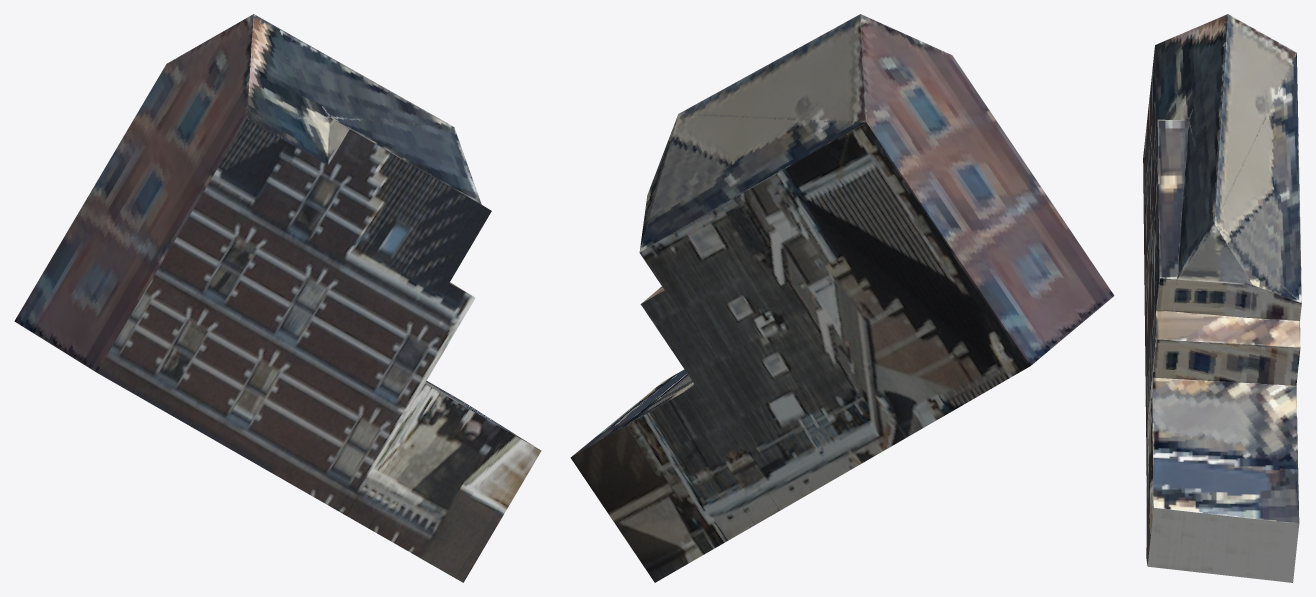
3 views of the same model, side by side, from view 1: azimuth 30°, elevation 25°; view 2: azimuth 150°, elevation 25°; view 3: azimuth 270°, elevation 25° (orthographic). The views are drawn at different scales.
Parts seen in each view (by area): view 1: BAG_0599100000671567 (×5); view 2: BAG_0599100000671567 (×3); view 3: BAG_0599100000671567 (×4).
Part boxes in pixels (x1,y1,x2,y2): BAG_0599100000671567 (×5): (14,14,541,582); BAG_0599100000671567 (×3): (570,14,1114,582); BAG_0599100000671567 (×4): (1143,14,1301,582).
Bounding box in the file's own units: 18.42 × 22.62 × 6.52.
5 materials, 5 textured.
